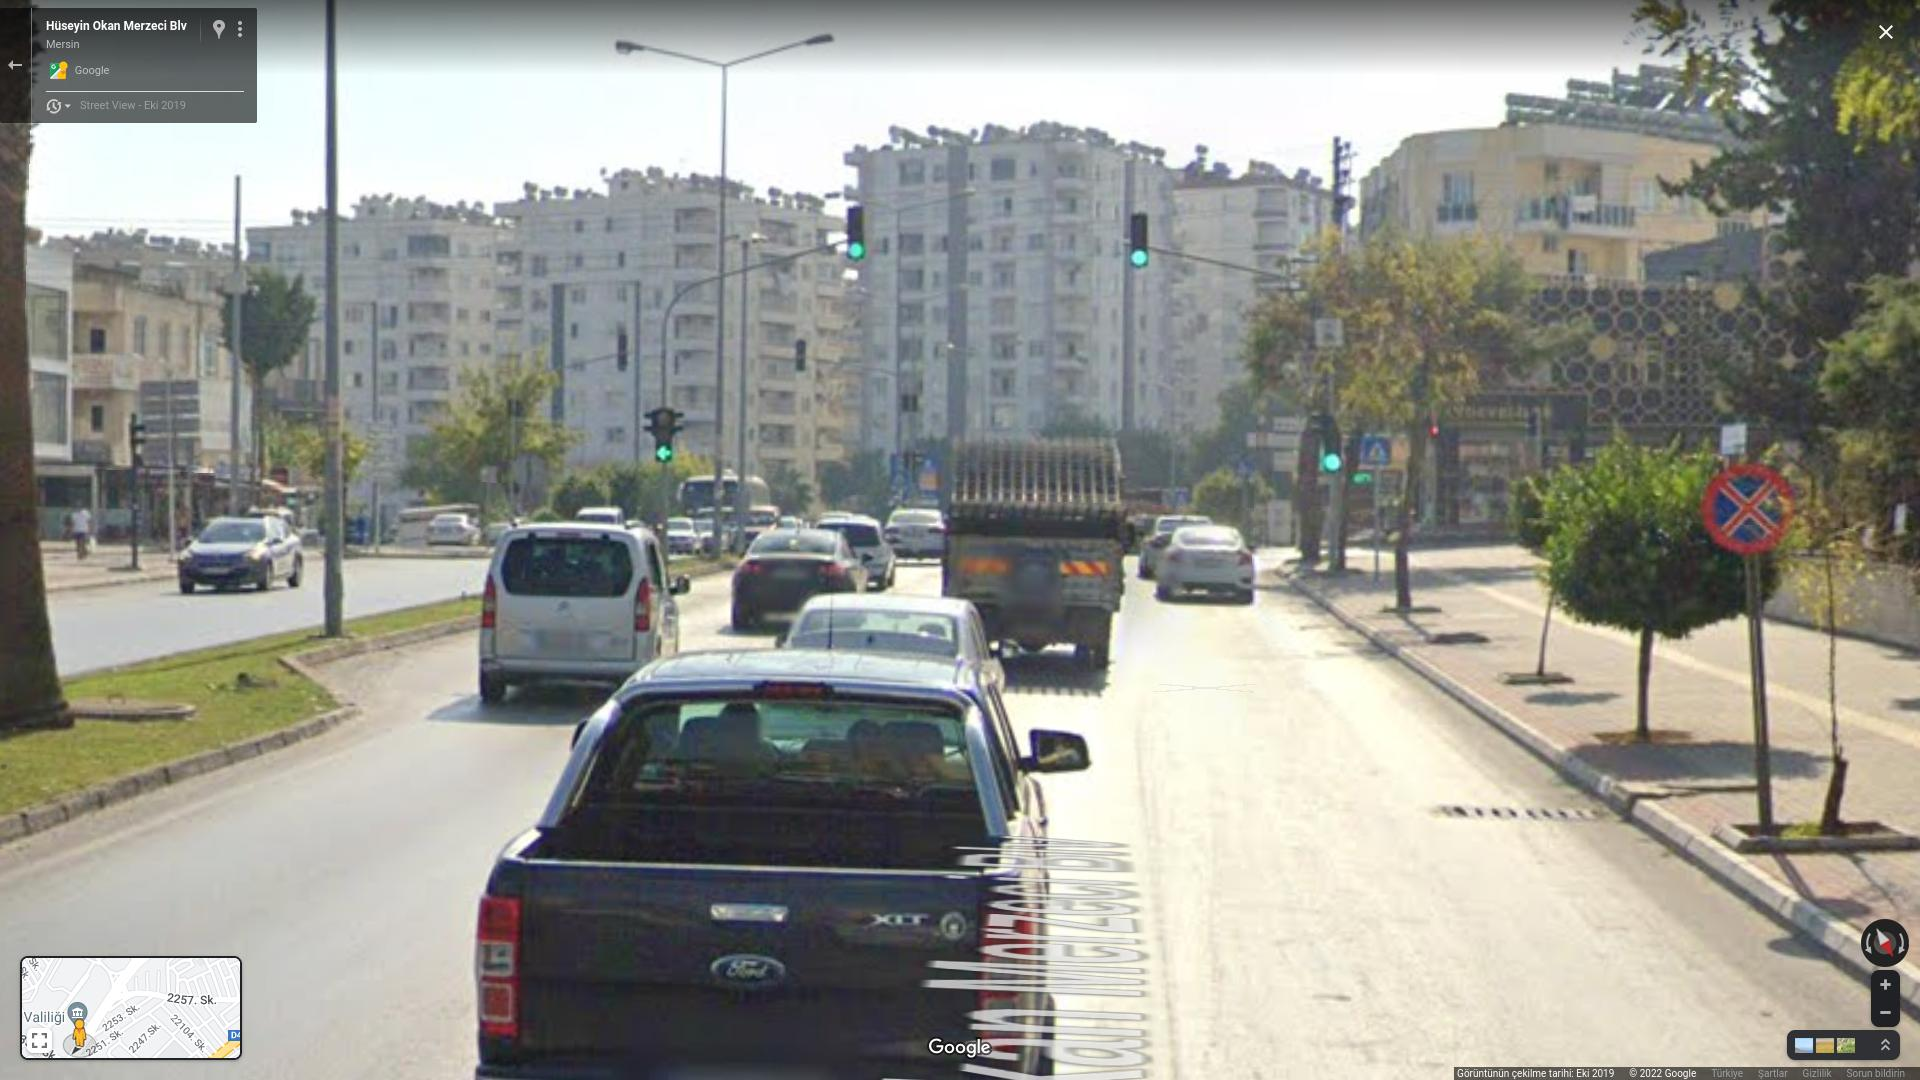greenlight: (650, 407, 676, 462), (1321, 419, 1348, 472), (845, 206, 869, 258), (1131, 212, 1151, 269)
